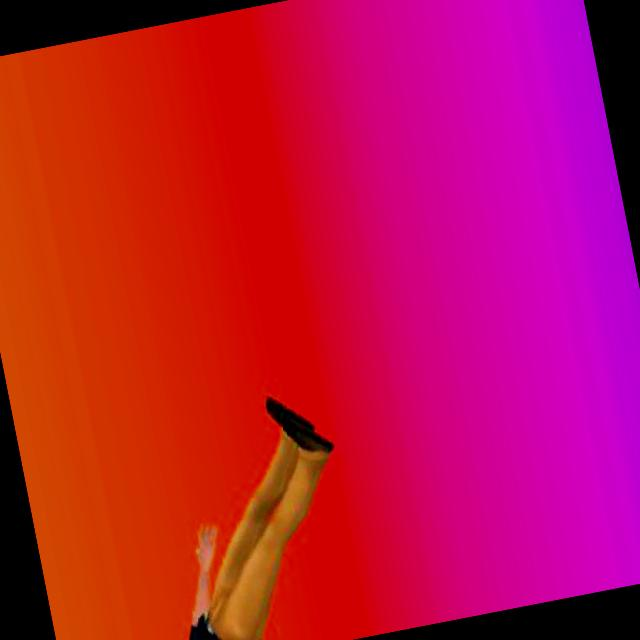Person: (123, 379, 370, 640)
